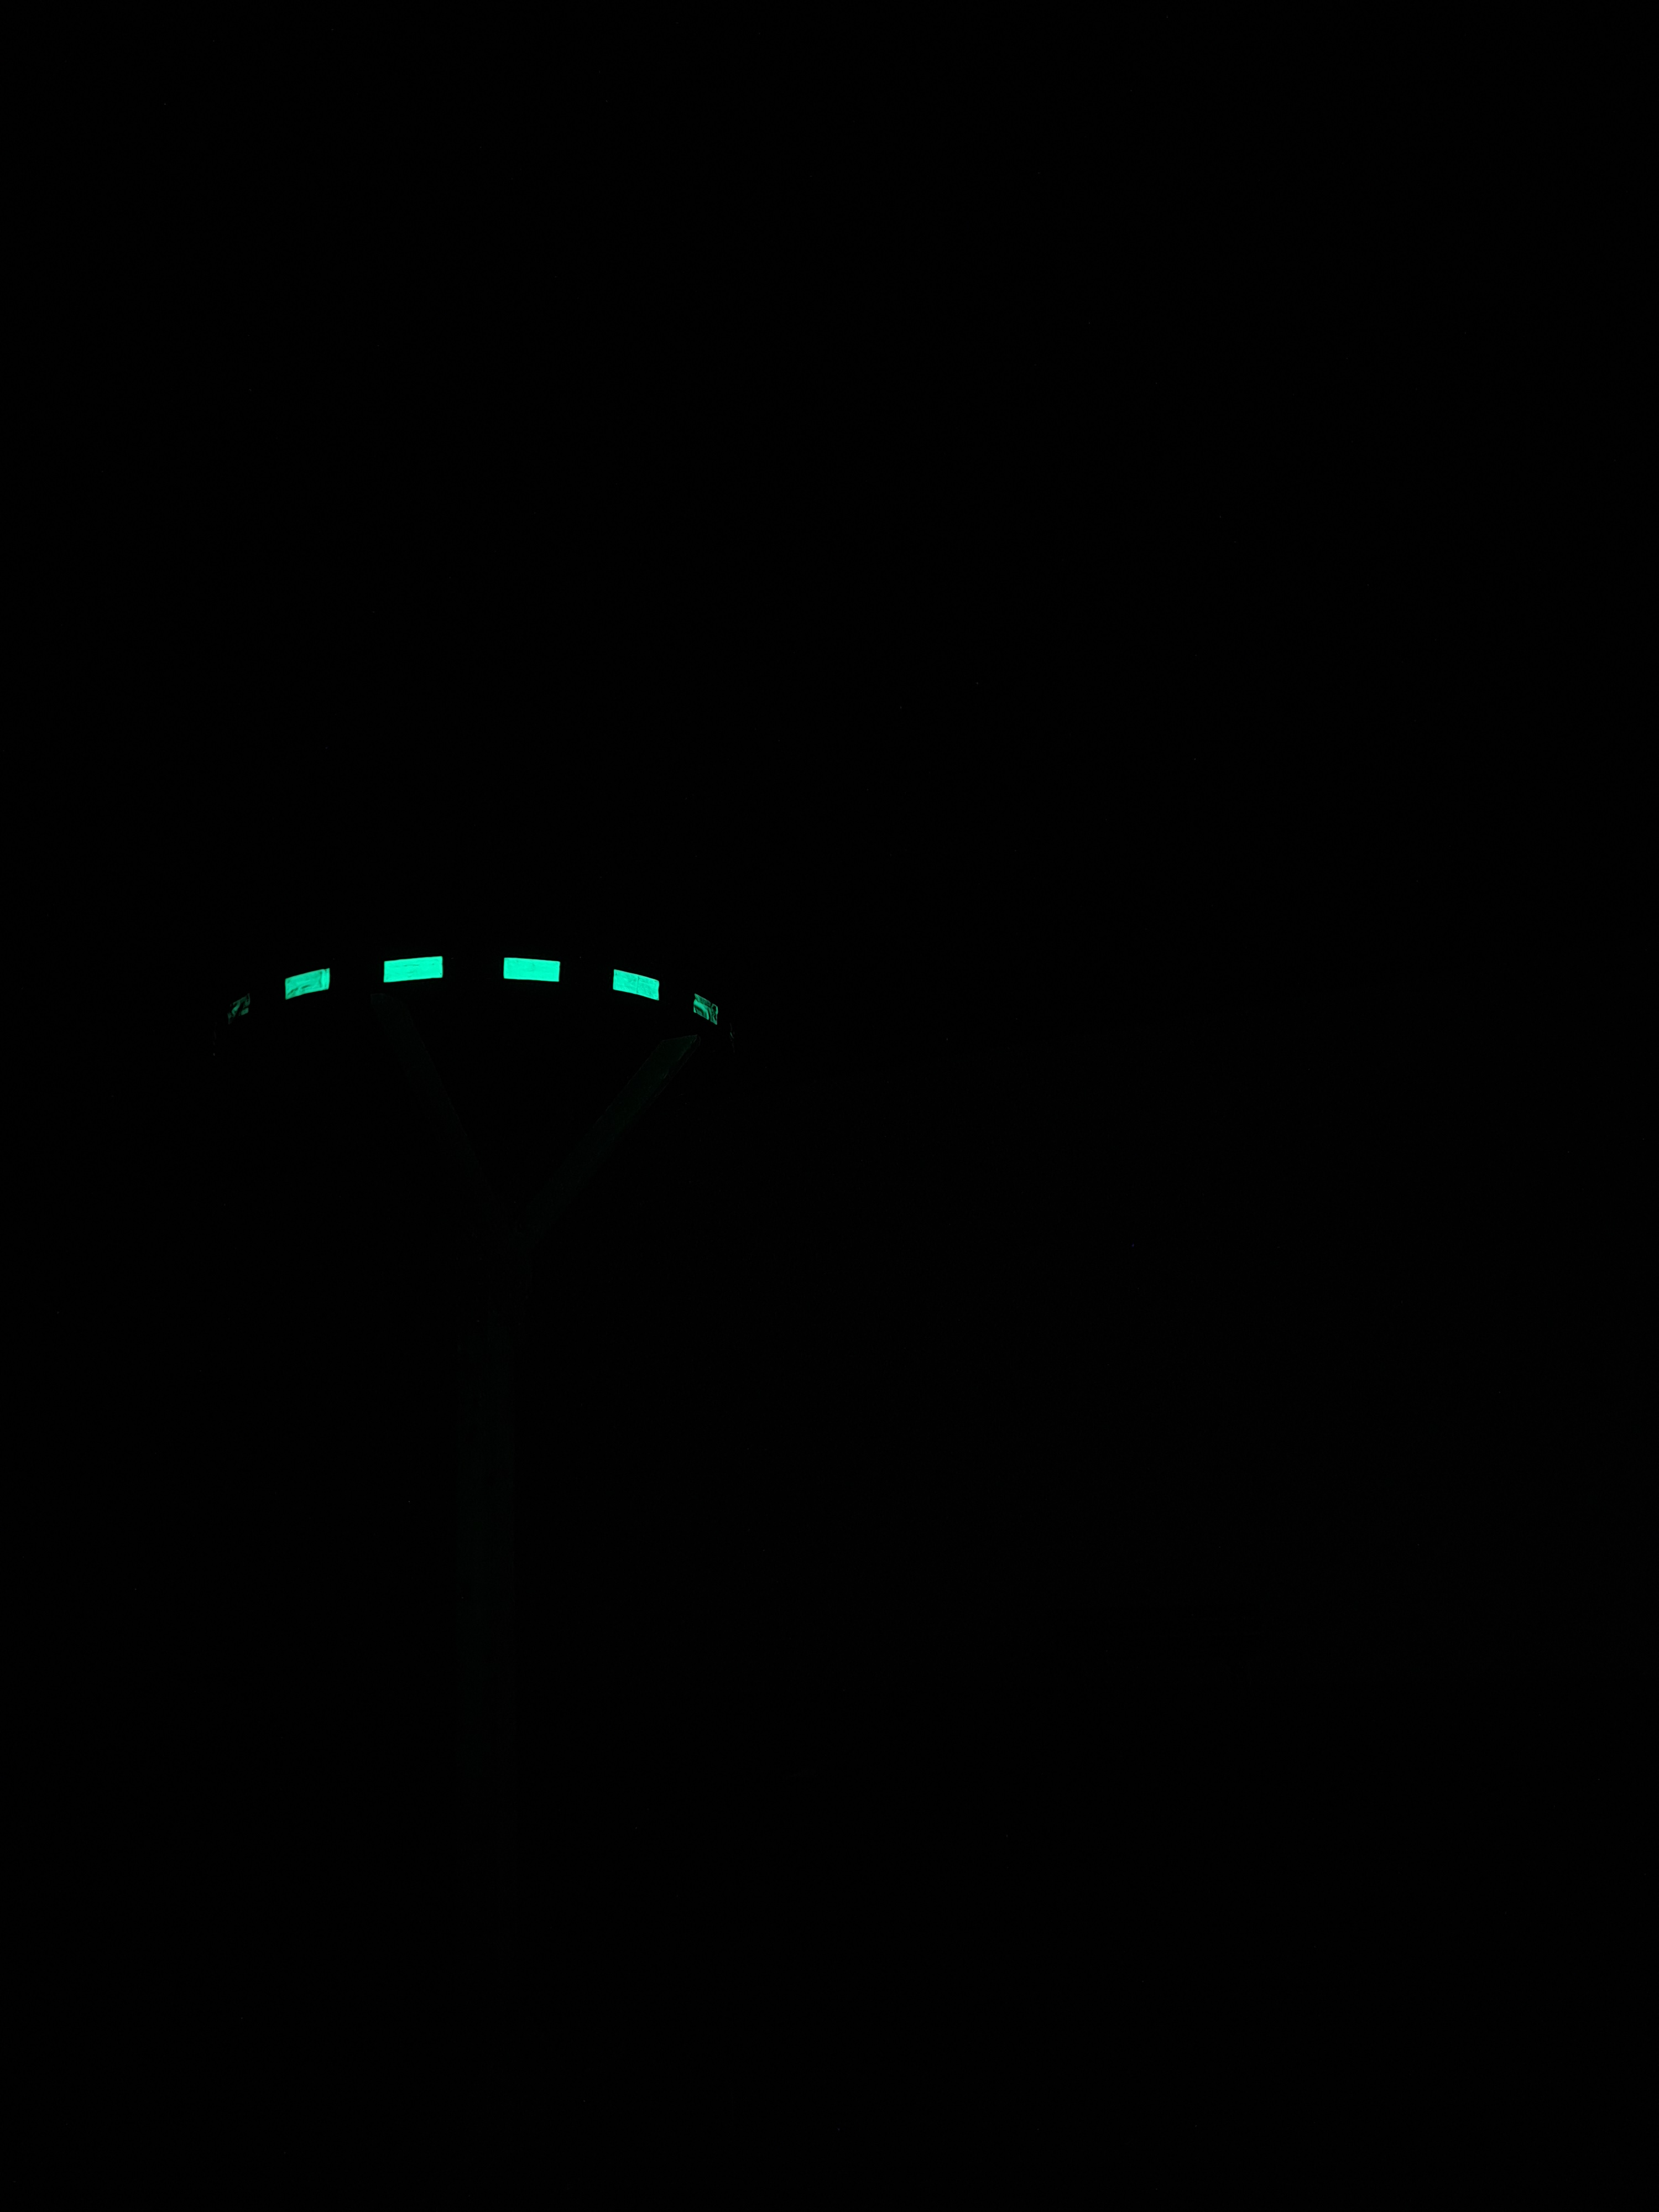hoop: (227, 949, 720, 1028)
